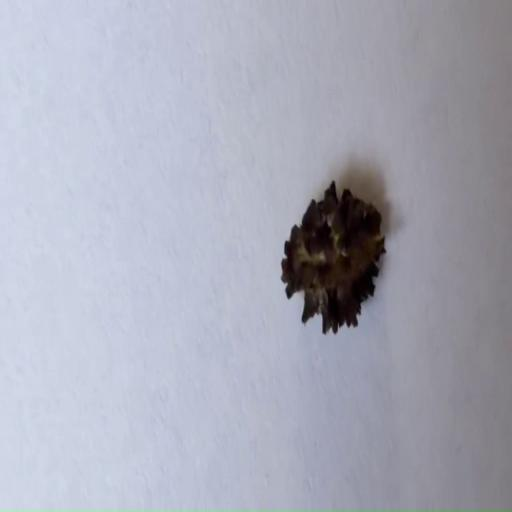papaya_seed: (278, 174, 392, 362)
